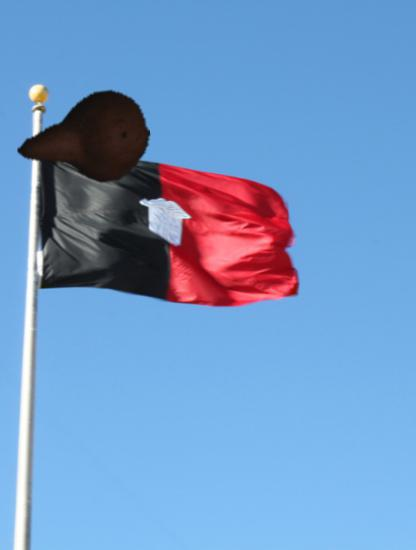Pear: (16, 72, 151, 207)
